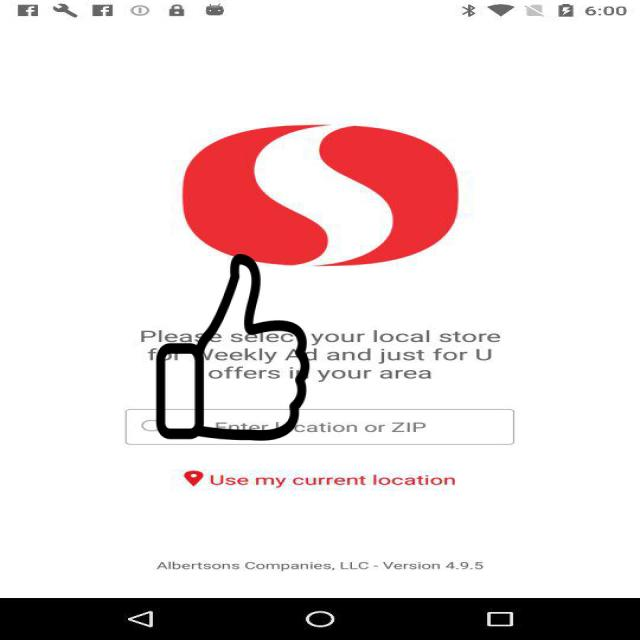privacy zuckering: (154, 254, 312, 441)
